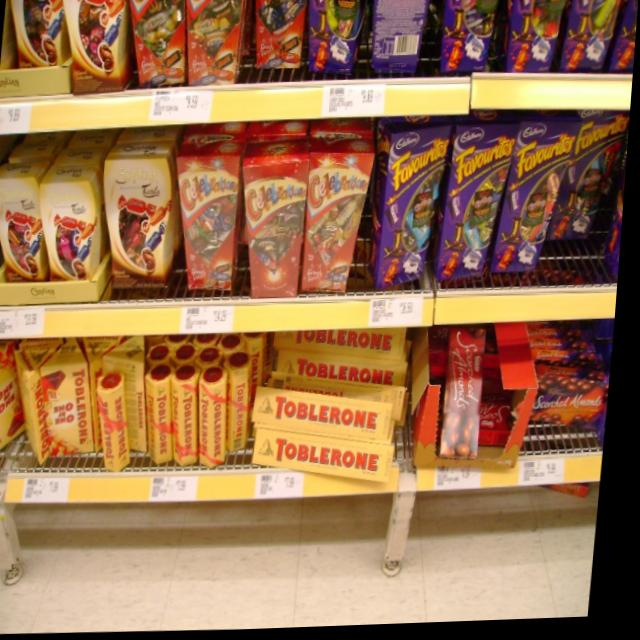q34: (253, 384, 400, 448), (261, 433, 407, 489), (280, 356, 415, 402)
